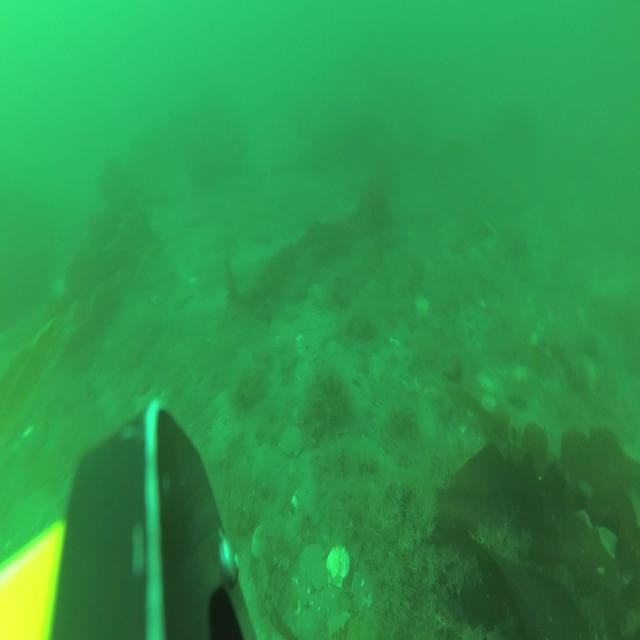scallop: (327, 544, 351, 591), (298, 546, 324, 582), (250, 521, 272, 562), (280, 425, 306, 458), (365, 351, 387, 384), (477, 369, 499, 395), (312, 560, 329, 592), (293, 361, 313, 384), (413, 292, 432, 316), (288, 403, 306, 425), (481, 391, 497, 413), (322, 338, 339, 358)
